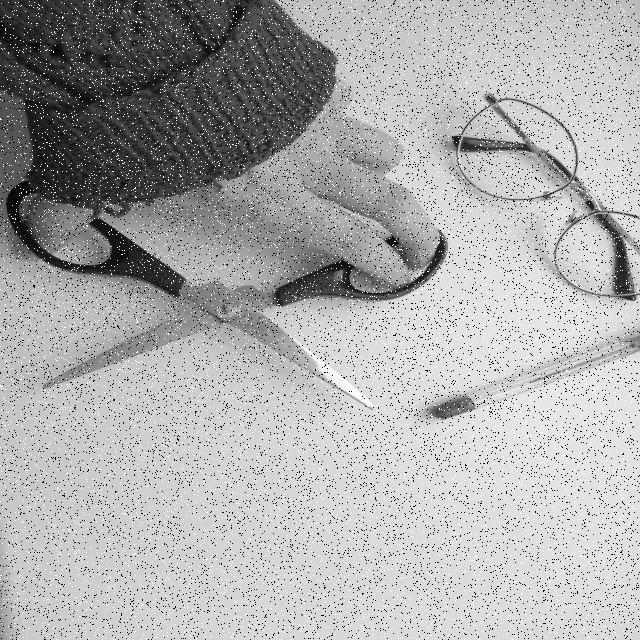scissors: (1, 176, 450, 416)
